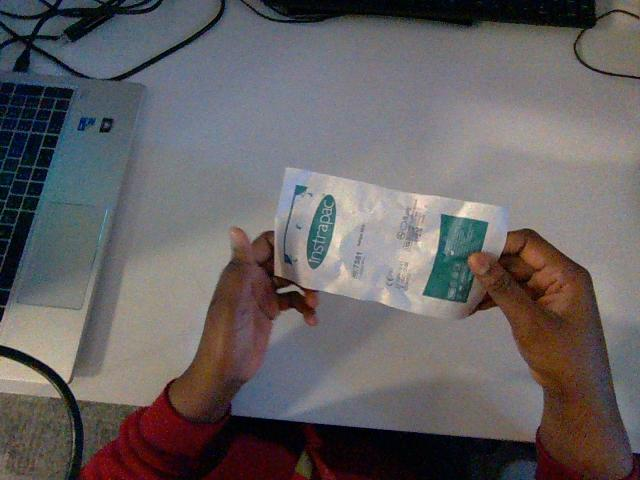gallipot: (275, 168, 507, 318)
